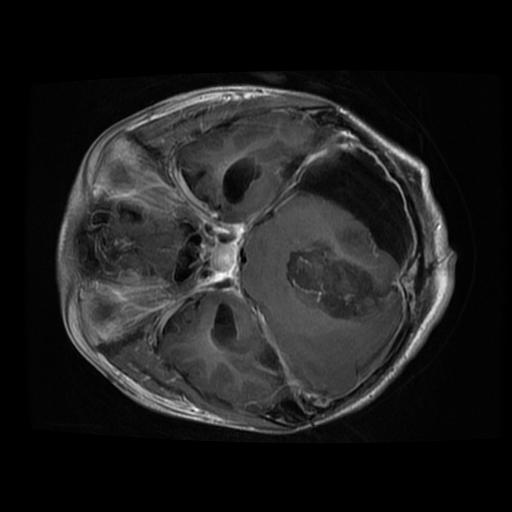glioma: (283, 241, 375, 323)
